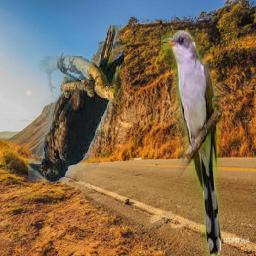Crow: (28, 26, 124, 183)
Cuckoo: (162, 30, 223, 256)
